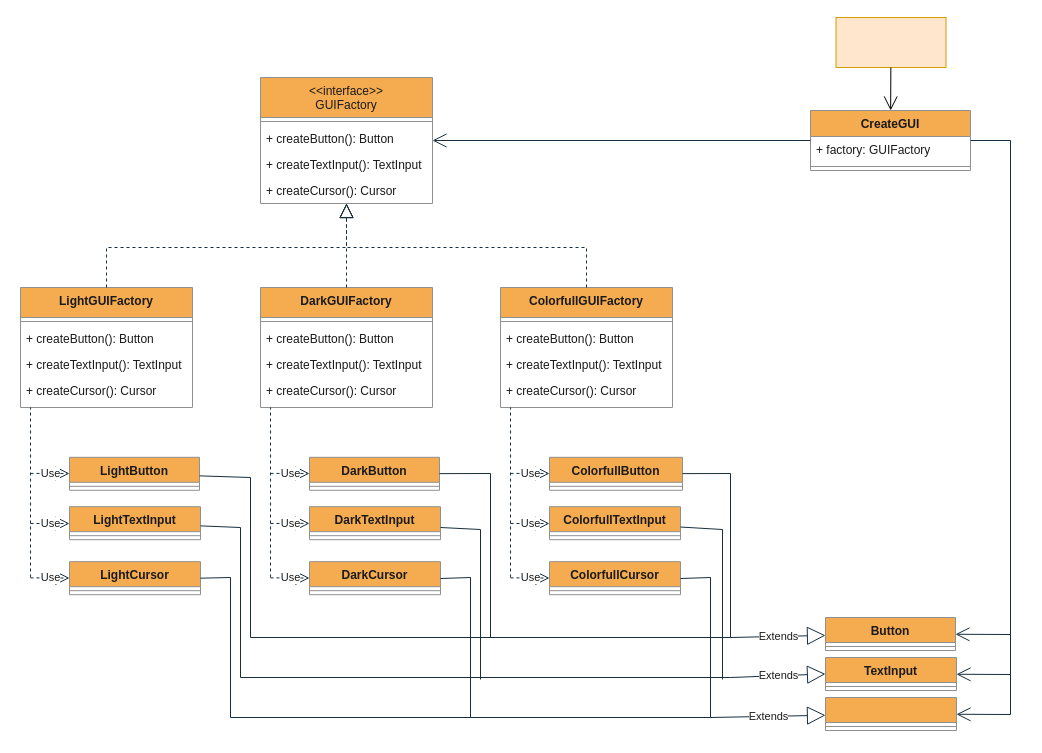
This 1042x753 diagram has some shape labels left out. Here are the shapes that lost their labels. From the top down, the box of each, then its label:
(835, 16, 946, 68): Client
(824, 696, 956, 730): Cursor
